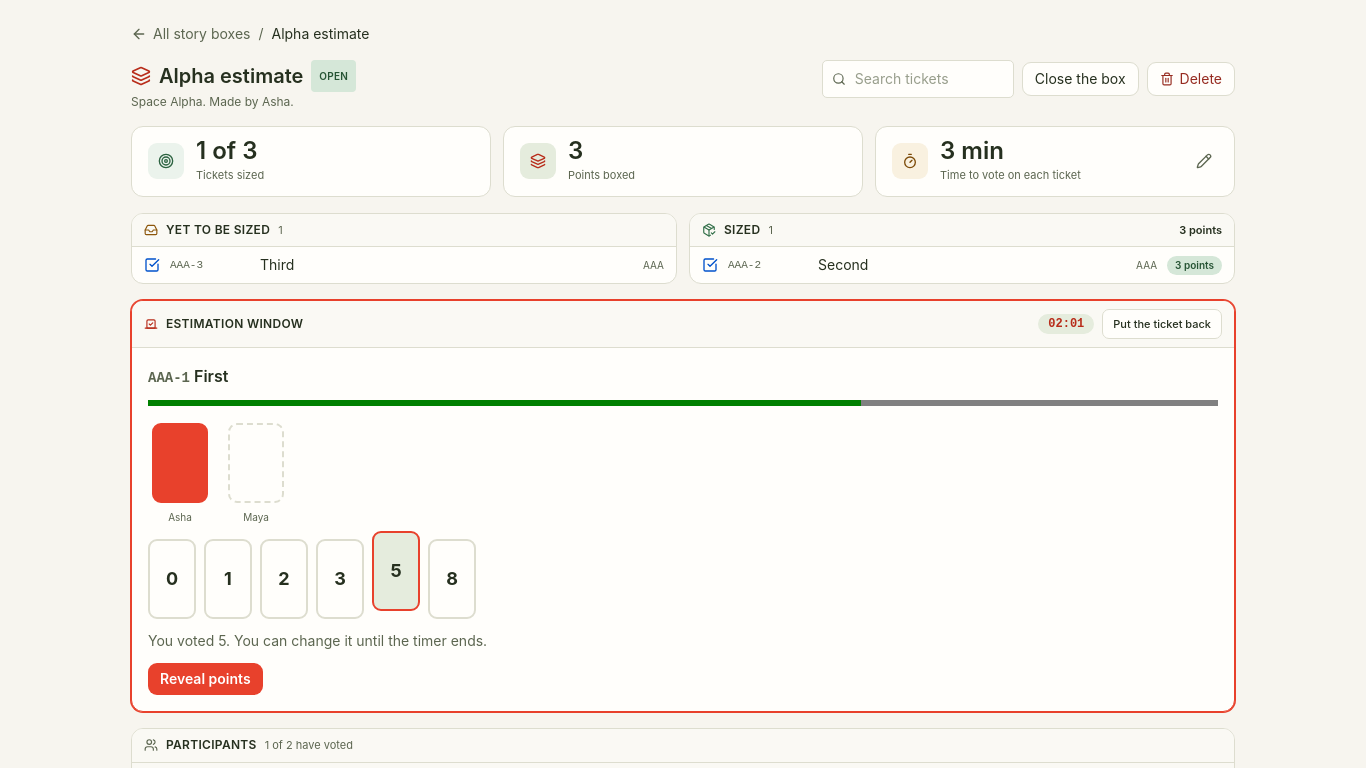
Test: in the hosted edition › shows the server's reason when a vote is refused, such as the time being up
This screenshot has width=1366, height=768.
Click the button "3".
click(340, 579)  # box [316, 539, 364, 619]
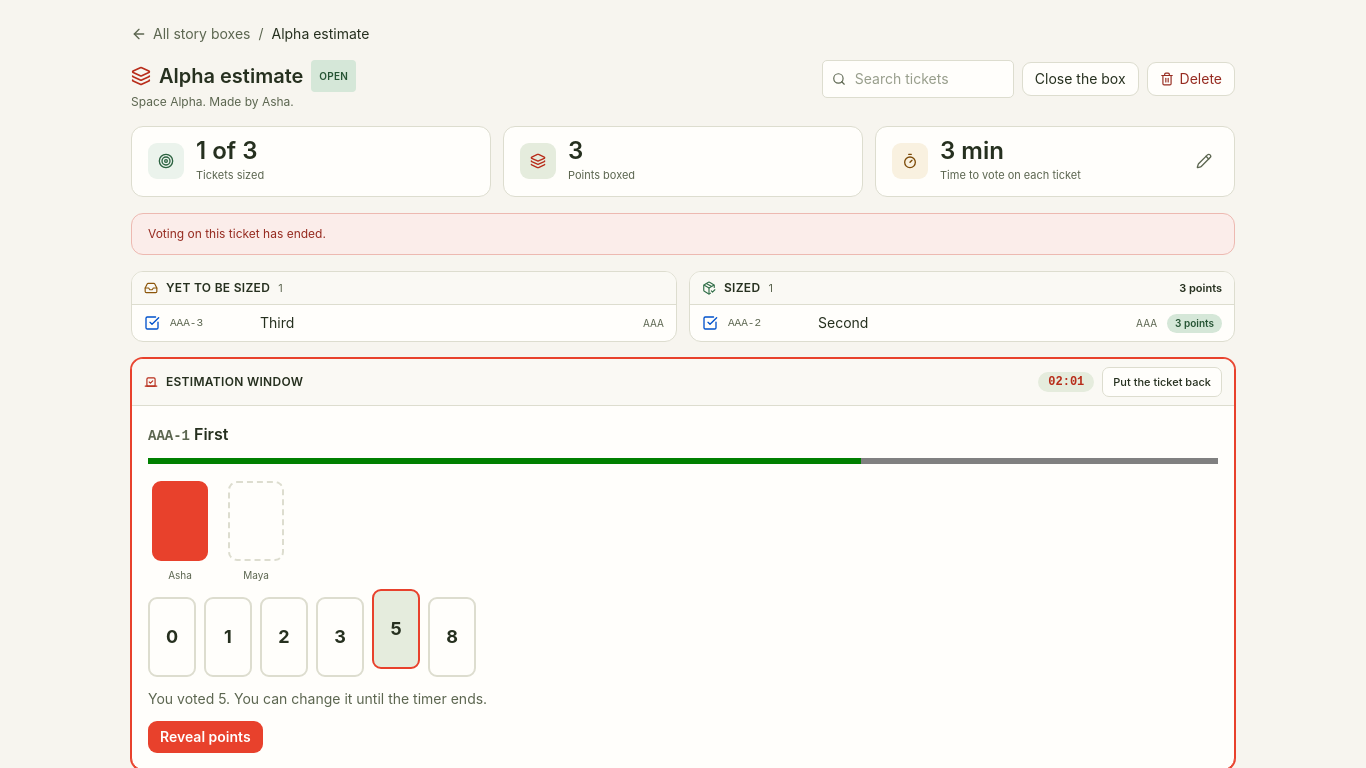
Expected: the message "Voting on this ticket has ended." is shown, [131, 212, 1235, 254]
